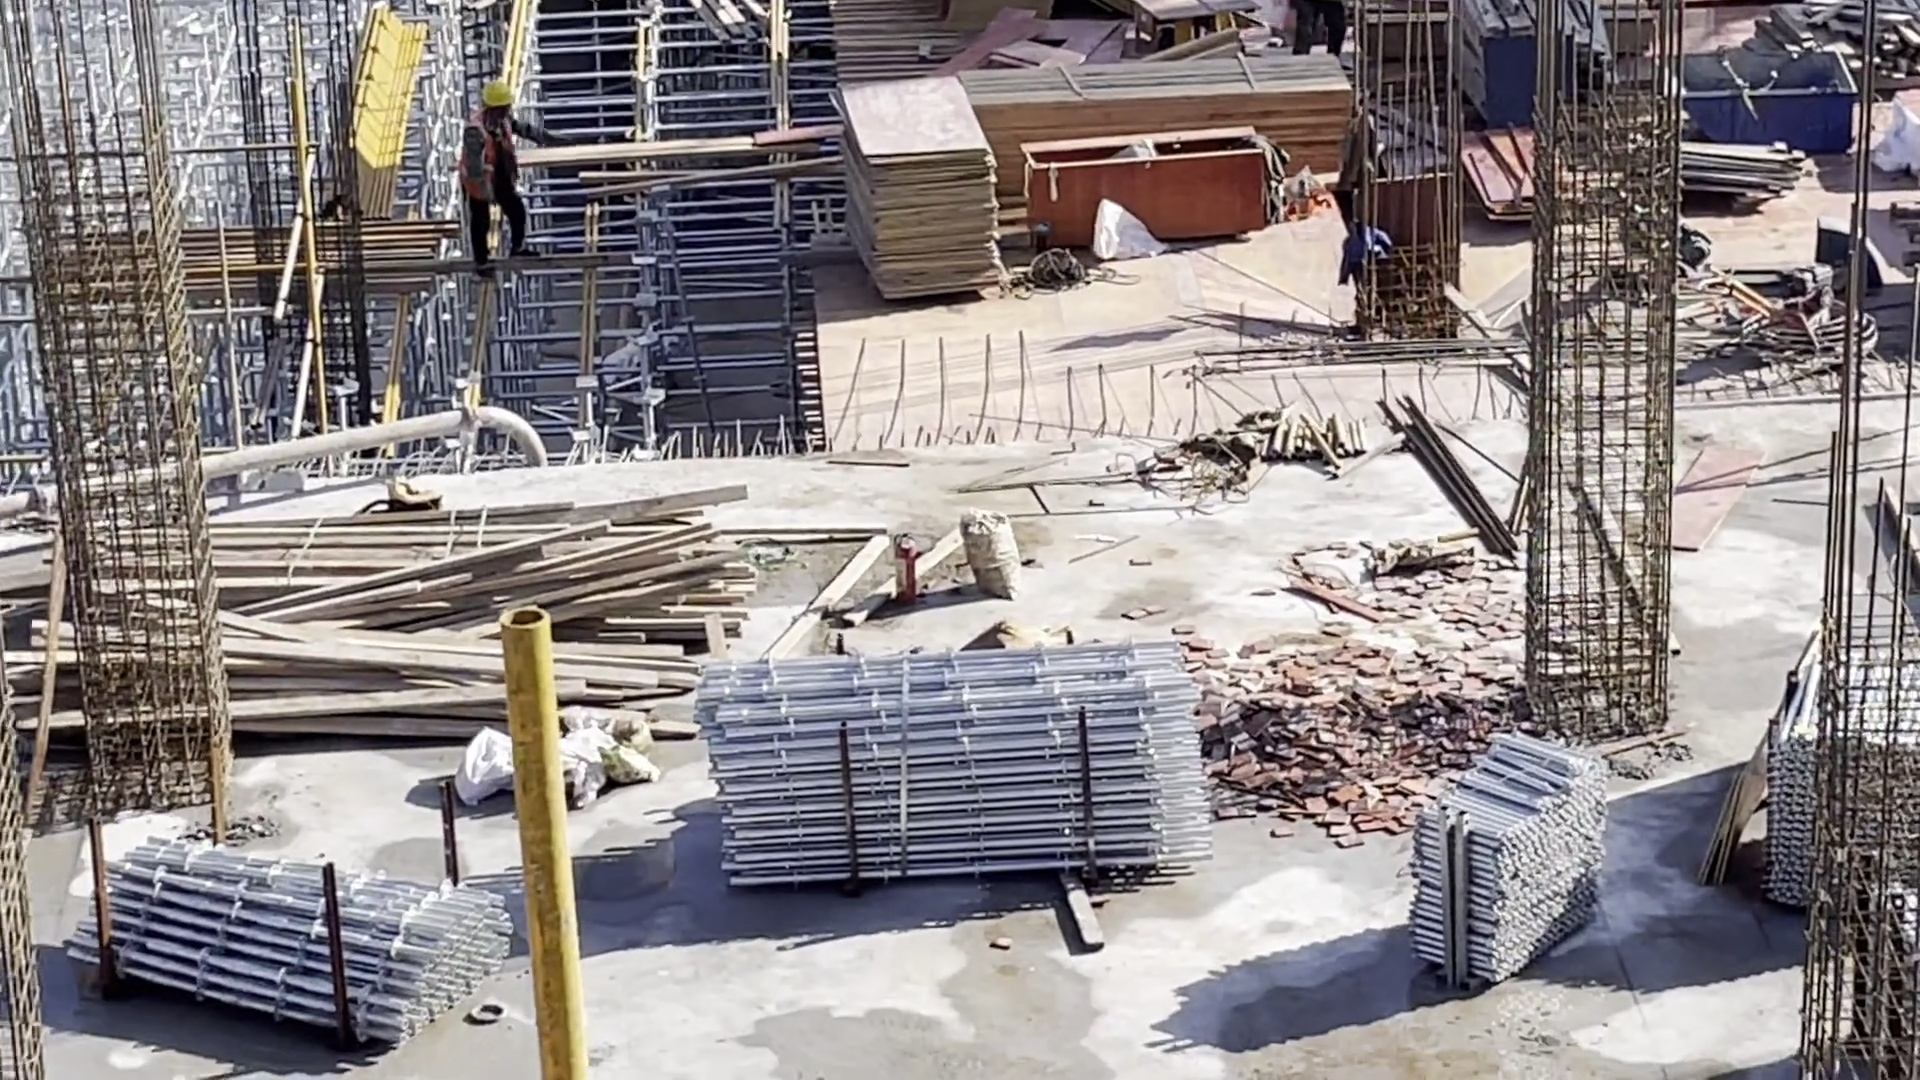board: (833, 72, 1013, 301)
helmet: (484, 82, 510, 108)
hopper: (1654, 52, 1858, 156)
person: (462, 82, 549, 269)
scaffold: (694, 645, 1217, 885), (63, 831, 517, 1048), (1411, 729, 1598, 982), (1765, 634, 1920, 924)
vest: (463, 116, 515, 208)
wood: (10, 486, 746, 745), (965, 59, 1351, 175)
